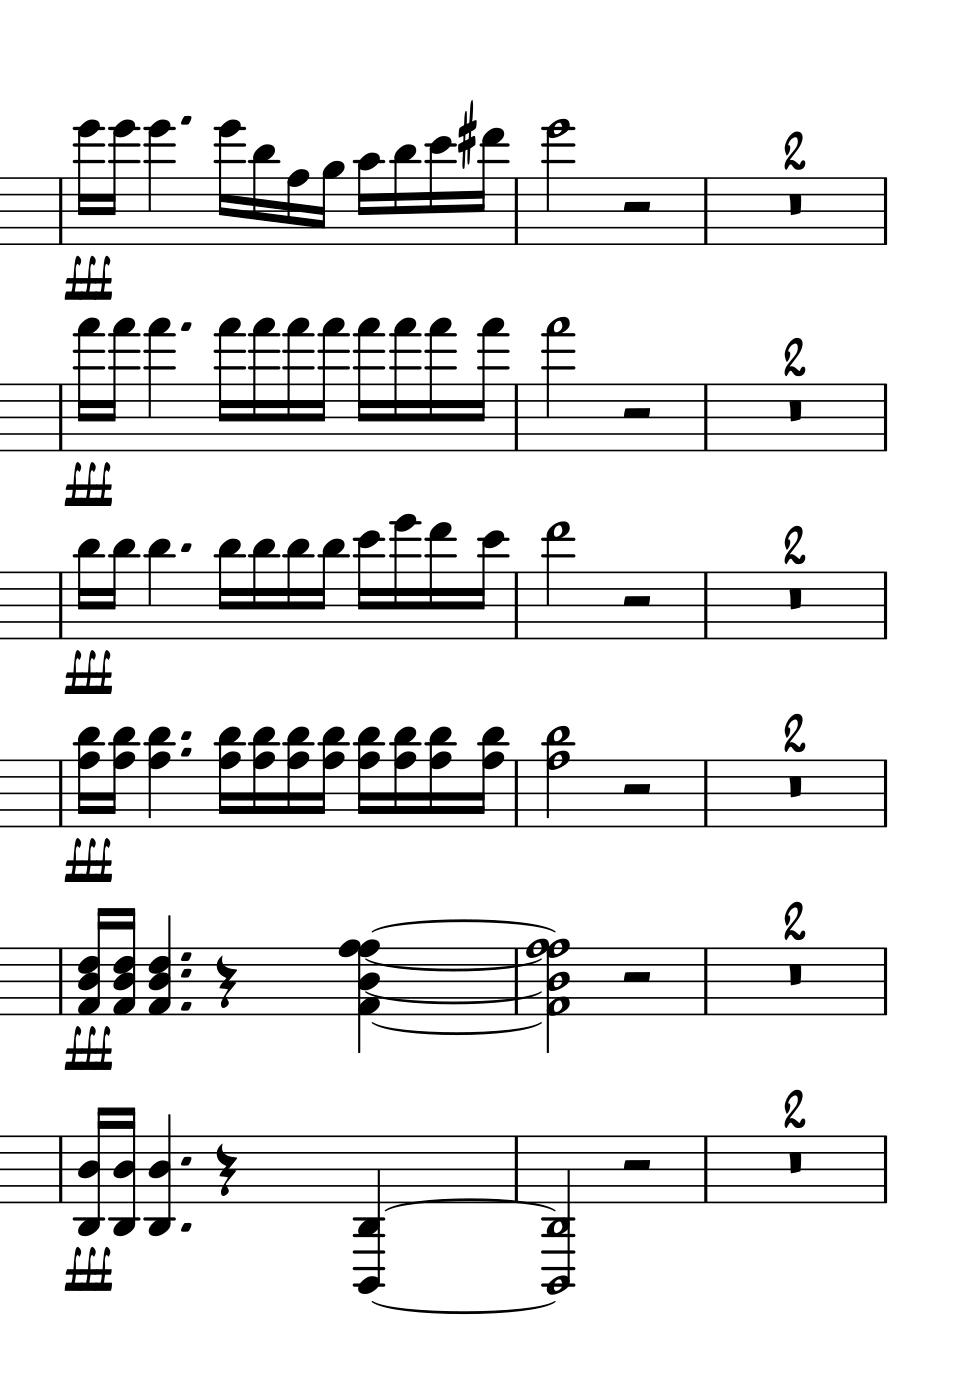16_-3_4: (74, 1106, 108, 1238), (109, 1104, 140, 1239)
16_10: (354, 151, 382, 247)
16_11: (104, 537, 137, 641), (314, 538, 347, 641), (72, 538, 102, 641), (214, 537, 243, 641), (248, 537, 277, 641), (283, 537, 312, 641), (390, 143, 418, 247), (249, 141, 275, 247)
16_12: (470, 529, 506, 641), (426, 135, 454, 246), (354, 530, 382, 642)
16_13: (472, 127, 505, 246), (425, 522, 455, 641)
16_14: (104, 120, 137, 245), (389, 515, 419, 642), (215, 120, 244, 245), (74, 121, 101, 246)
16_15: (472, 318, 506, 450), (314, 317, 346, 453), (105, 317, 137, 452), (353, 319, 383, 452), (282, 317, 311, 454), (424, 319, 454, 450), (248, 319, 277, 452), (215, 319, 244, 451), (389, 319, 418, 451), (74, 318, 101, 453)
16_8: (284, 168, 310, 246)
16_8_11: (104, 726, 137, 829), (316, 727, 349, 830), (476, 726, 509, 829), (73, 726, 102, 829), (216, 726, 245, 829), (249, 726, 278, 829), (284, 726, 313, 829), (355, 726, 384, 829), (392, 729, 421, 831), (426, 726, 455, 829)
16_9: (316, 160, 346, 247)
16_th: (78, 907, 110, 1018), (111, 906, 138, 1016)
2: (781, 333, 808, 376), (782, 127, 808, 172), (781, 896, 807, 941), (781, 1087, 806, 1130), (782, 713, 808, 753), (784, 523, 808, 566)
2_14: (543, 119, 574, 246)
2_15: (541, 318, 573, 452)
2_4th: (527, 937, 570, 1056)
2_8_11: (542, 725, 574, 830)
4_-3_4: (145, 1113, 178, 1235)
4_11: (145, 538, 173, 641)
4_13: (542, 522, 572, 642)
4_14: (143, 120, 174, 246)
4_15: (143, 319, 173, 451)
4_4th: (339, 936, 381, 1052)
4_8_11: (144, 725, 175, 830)
4_th: (148, 915, 174, 1016)
Rests2: (617, 591, 657, 613), (616, 1156, 657, 1177), (617, 967, 657, 988), (619, 197, 657, 220), (618, 404, 657, 425), (618, 780, 655, 799)
Rests4: (213, 953, 237, 1011), (213, 1142, 237, 1198)
Sharp: (455, 98, 477, 171)
Single_barline: (508, 949, 527, 1016), (697, 572, 714, 638), (876, 572, 893, 638), (697, 1136, 714, 1203), (697, 178, 714, 244), (876, 178, 893, 244), (697, 384, 714, 450), (876, 384, 893, 450), (508, 760, 525, 826), (697, 760, 714, 826), (876, 760, 893, 826), (697, 948, 714, 1014), (876, 948, 893, 1014), (876, 1136, 893, 1201), (508, 178, 524, 244), (508, 385, 524, 450), (508, 573, 524, 637), (508, 1136, 524, 1199), (53, 949, 68, 1014), (53, 1136, 67, 1201), (53, 178, 67, 243), (53, 573, 67, 637), (53, 385, 67, 449), (53, 761, 67, 825)
Slur: (365, 957, 543, 973), (365, 989, 541, 1006), (380, 1196, 555, 1213), (371, 1022, 542, 1038), (368, 919, 561, 933)
dot: (176, 965, 197, 980), (178, 113, 194, 130), (177, 540, 194, 556), (176, 949, 197, 962), (178, 1220, 194, 1235), (177, 744, 193, 758), (178, 998, 194, 1012), (179, 1151, 192, 1168), (179, 320, 193, 335), (179, 729, 193, 743)
fff: (62, 251, 115, 302), (62, 457, 115, 508), (62, 646, 115, 696), (62, 1022, 113, 1071), (62, 840, 113, 889), (64, 1244, 112, 1293)
